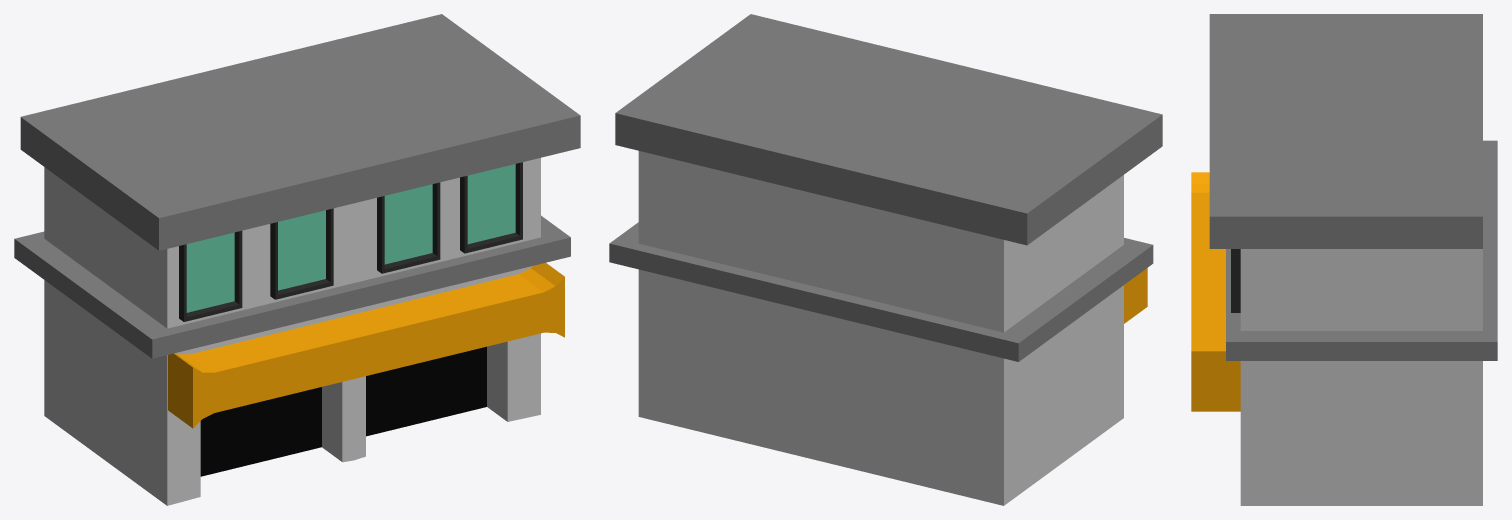
File: PredioGenericoEscalaveCINZA.fbx
The picture shows the model from 3 angles, left to right: view 1: azimuth 30°, elevation 25°; view 2: azimuth 150°, elevation 25°; view 3: azimuth 270°, elevation 25°; orthographic projection. The views are drawn at different scales.
Visible parts, largest first — view 1: LojaGenericaEscalavel; view 2: LojaGenericaEscalavel; view 3: LojaGenericaEscalavel.
Boxes of the visible parts, x1,y1,x2,y2 form: LojaGenericaEscalavel: (14, 14, 580, 505); LojaGenericaEscalavel: (609, 14, 1162, 505); LojaGenericaEscalavel: (1191, 14, 1497, 505).
Size of the model in its own units: 1095 by 757 by 699.
Materials: 1 (1 with a texture image).
